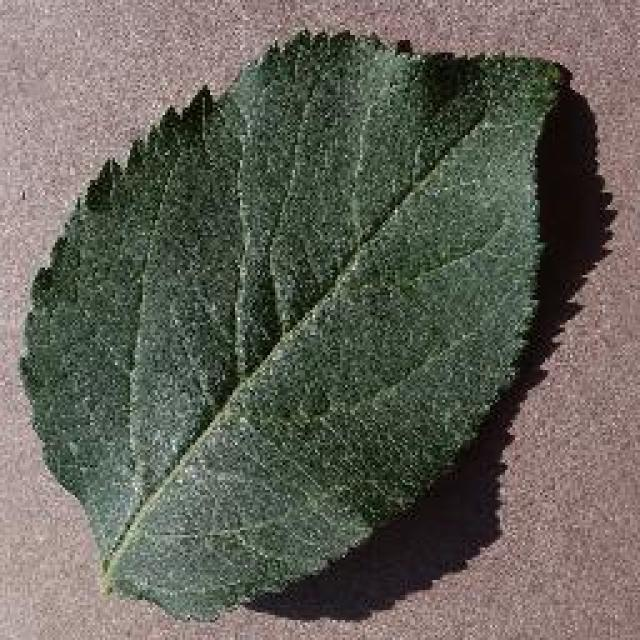apple healthy: (15, 25, 573, 620)
